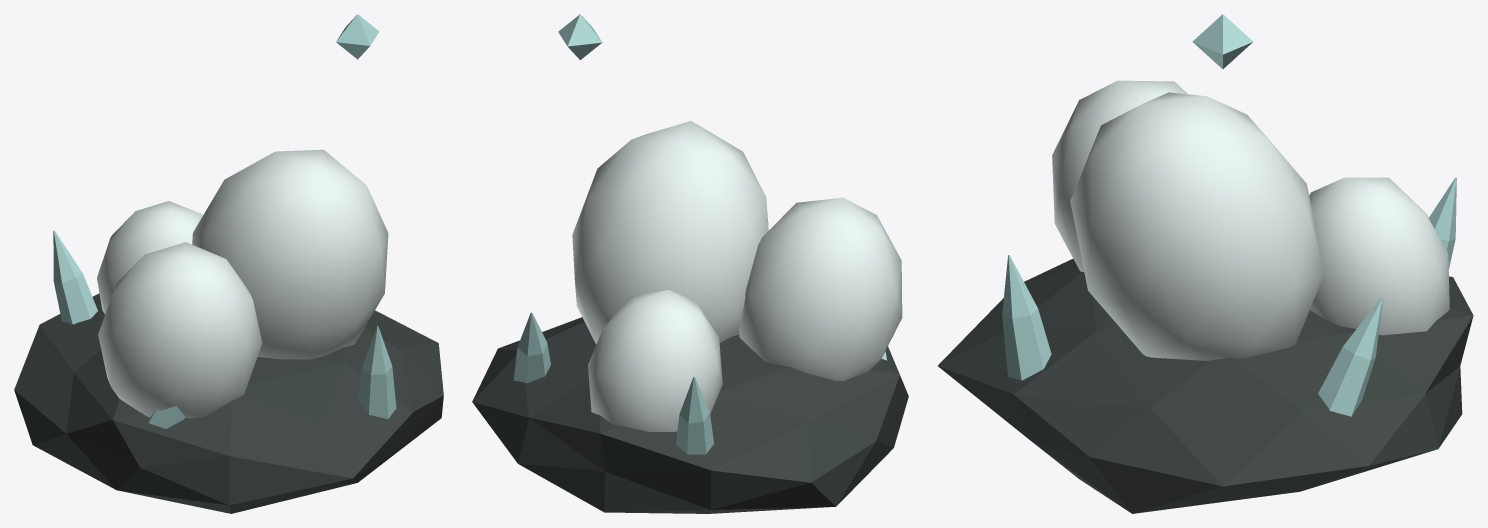
Rendered from opal.glb.
3 renders of one model, left to right at view 1: azimuth 30°, elevation 25°; view 2: azimuth 150°, elevation 25°; view 3: azimuth 270°, elevation 25°, orthographic. The views are drawn at different scales.
Visible parts, largest first — view 1: RockBase, OpalEgg_0, OpalEgg_1, OpalEgg_2, OpalShard_2, OpalShard_0, OpalWisp, OpalShard_1; view 2: RockBase, OpalEgg_0, OpalEgg_1, OpalEgg_2, OpalShard_2, OpalShard_3, OpalWisp; view 3: RockBase, OpalEgg_0, OpalEgg_2, OpalEgg_1, OpalShard_0, OpalShard_3, OpalWisp, OpalShard_2.
Part boxes in pixels (x1,y1,x2,y2): RockBase: (14,293,443,513); OpalEgg_0: (192,149,388,359); OpalEgg_1: (98,242,262,418); OpalEgg_2: (97,201,202,314); OpalShard_2: (53,230,97,324); OpalShard_0: (358,326,396,418); OpalWisp: (336,14,379,59); OpalShard_1: (149,406,184,428); RockBase: (472,317,908,513); OpalEgg_0: (572,121,768,344); OpalEgg_1: (739,197,902,380); OpalEgg_2: (588,290,722,432); OpalShard_2: (676,376,714,454); OpalShard_3: (513,312,550,383); OpalWisp: (558,14,602,60); RockBase: (938,259,1473,513); OpalEgg_0: (1070,92,1324,360); OpalEgg_2: (1309,177,1449,335); OpalEgg_1: (1052,80,1187,271); OpalShard_0: (1002,255,1051,380); OpalShard_3: (1318,297,1382,416); OpalWisp: (1192,14,1253,68); OpalShard_2: (1429,177,1456,269).
Bounding box in the file's own units: 1.28 × 1.38 × 1.31.
